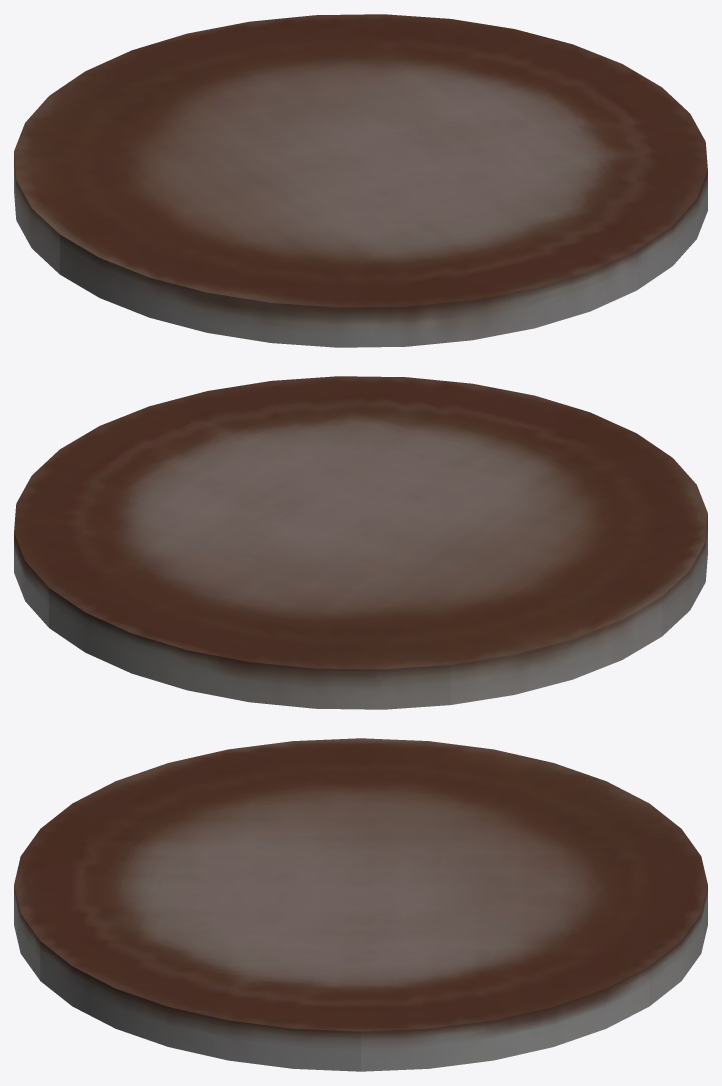
The model's file is front_wheel_0__hub_cap_0.glb.
3 renders of one model, top to bottom at view 1: azimuth 30°, elevation 25°; view 2: azimuth 150°, elevation 25°; view 3: azimuth 270°, elevation 25°, orthographic.
Visible parts, largest first — view 1: world; view 2: world; view 3: world.
Boxes of the visible parts, x1,y1,x2,y2 form: world: (14, 14, 707, 347); world: (14, 376, 707, 709); world: (14, 738, 707, 1071).
Bounding box in the file's own units: 0.094 × 0.006 × 0.094.
Materials: 1 (1 with a texture image).
